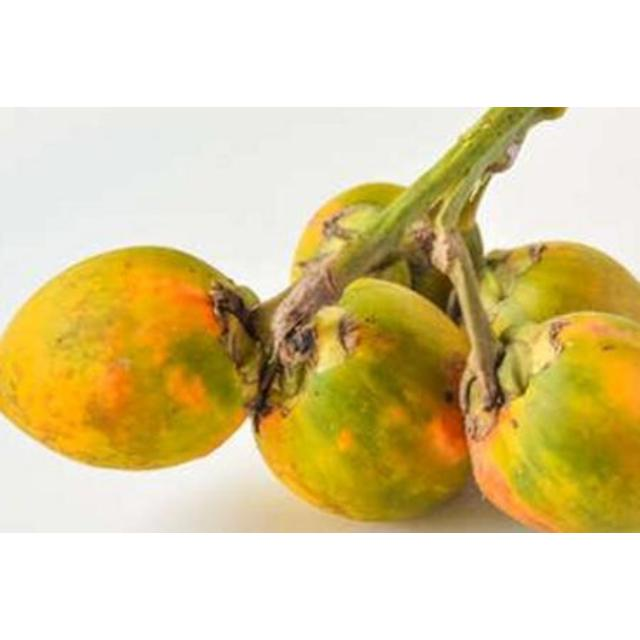good: (0, 248, 258, 470), (254, 276, 476, 520), (466, 312, 640, 530), (293, 182, 467, 312), (468, 242, 640, 351)
